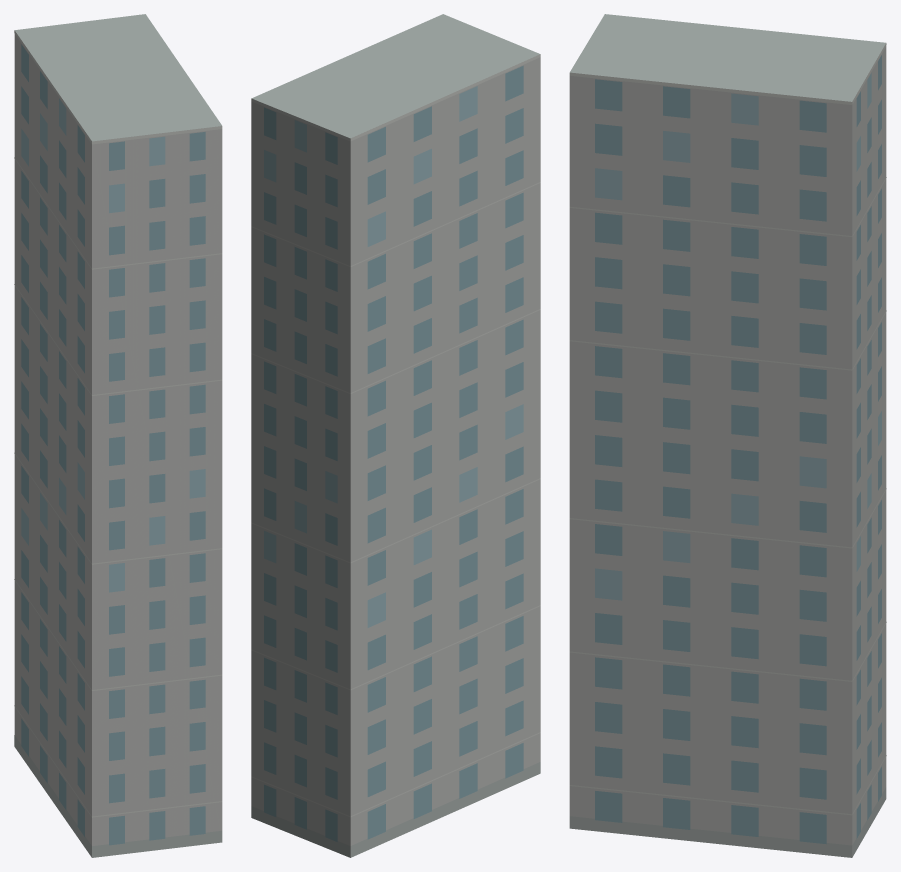
The model's file is survey-upis-32908531.glb.
3 views of the same model, side by side, from view 1: azimuth 30°, elevation 25°; view 2: azimuth 150°, elevation 25°; view 3: azimuth 270°, elevation 25° (orthographic). The views are drawn at different scales.
Visible parts, largest first — view 1: survey-upis-32908531.tmp; view 2: survey-upis-32908531.tmp; view 3: survey-upis-32908531.tmp.
Part boxes in pixels (<box>): survey-upis-32908531.tmp: <box>14,14,222,857</box>; survey-upis-32908531.tmp: <box>251,14,540,857</box>; survey-upis-32908531.tmp: <box>569,14,886,857</box>.
Size of the model in its own units: 14.46 by 57.9 by 22.01.
